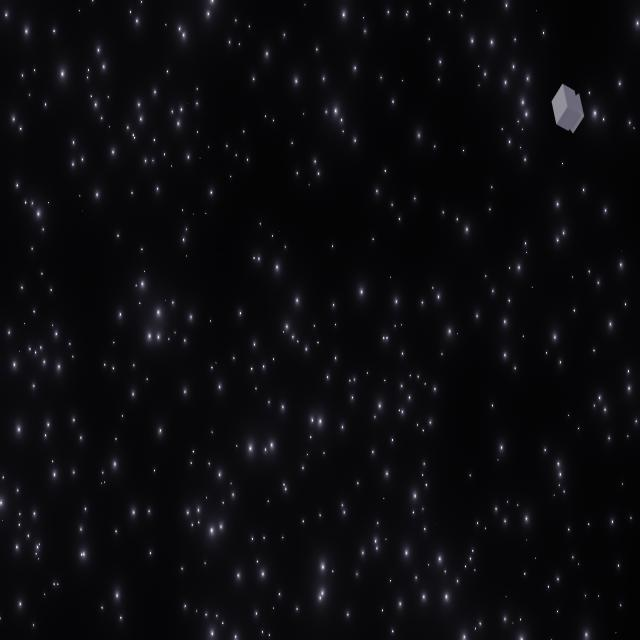large_debris: (553, 82, 585, 138)
